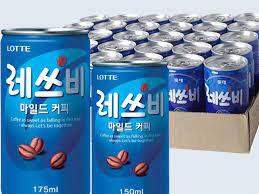letsbe: (0, 27, 92, 193), (92, 61, 170, 193)
